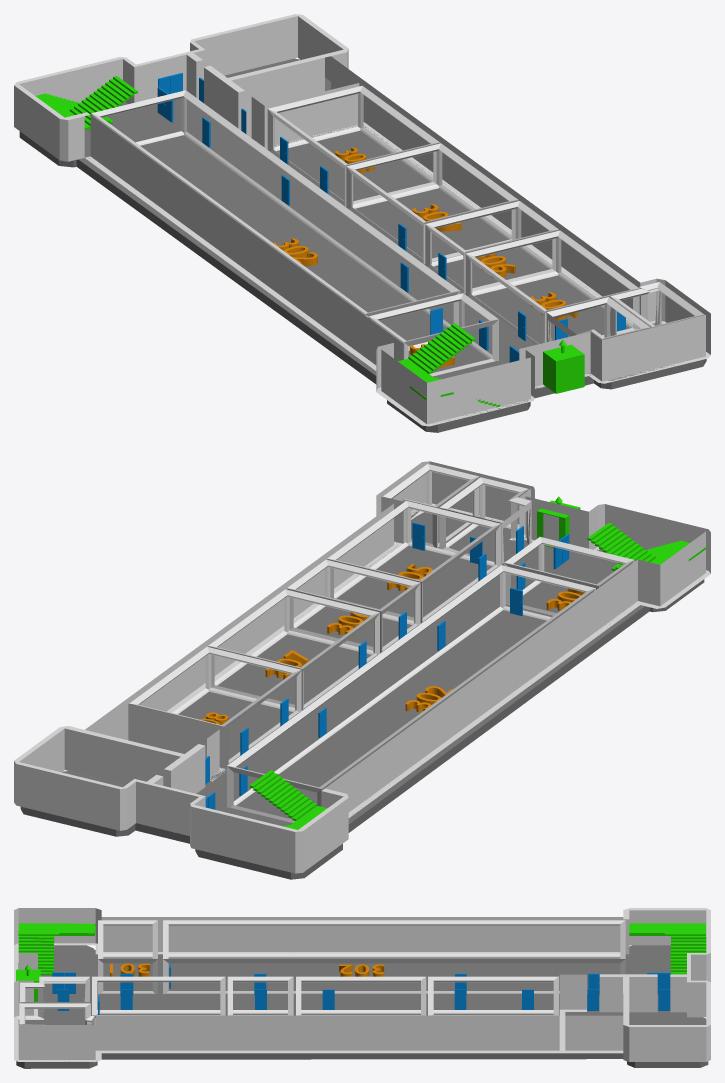
The picture shows the model from 3 angles, top to bottom: view 1: azimuth 30°, elevation 25°; view 2: azimuth 150°, elevation 25°; view 3: azimuth 270°, elevation 25°; orthographic projection. The views are drawn at different scales.
Visible parts, largest first — view 1: Wall.001, Floor.001, B101.001, Elevator1.001, Stair1.007, Stair1.005; view 2: Wall.001, Floor.001, B101.001, Stair1.005, Stair1.007; view 3: Wall.001, Floor.001, B101.001, Stair1.004, Stair1.006, StairFlatFloor2.002, StairFlatFloor2.003, Text.013, Text.011, Elevator1.001, Door.017, Door.034 (+1 smaller).
Part boxes in pixels (bbox=[...]): Wall.001: bbox=[14, 14, 710, 426]; Floor.001: bbox=[19, 58, 706, 432]; B101.001: bbox=[91, 85, 704, 383]; Elevator1.001: bbox=[543, 344, 584, 393]; Stair1.007: bbox=[408, 323, 475, 373]; Stair1.005: bbox=[70, 76, 137, 125]; Wall.001: bbox=[14, 461, 710, 873]; Floor.001: bbox=[20, 510, 704, 879]; B101.001: bbox=[129, 464, 634, 822]; Stair1.005: bbox=[249, 770, 316, 820]; Stair1.007: bbox=[587, 523, 655, 565]; Wall.001: bbox=[14, 908, 710, 1061]; Floor.001: bbox=[16, 945, 708, 1068]; B101.001: bbox=[19, 920, 625, 1062]; Stair1.004: bbox=[670, 936, 706, 974]; Stair1.006: bbox=[18, 935, 54, 975]; StairFlatFloor2.002: bbox=[629, 923, 705, 935]; StairFlatFloor2.003: bbox=[18, 923, 95, 935]; Text.013: bbox=[339, 964, 384, 976]; Text.011: bbox=[110, 963, 149, 976]; Elevator1.001: bbox=[16, 969, 40, 1001]; Door.017: bbox=[52, 972, 75, 993]; Door.034: bbox=[647, 972, 670, 993].
Size of the model in its own units: 1.02 by 0.201 by 2.52.
